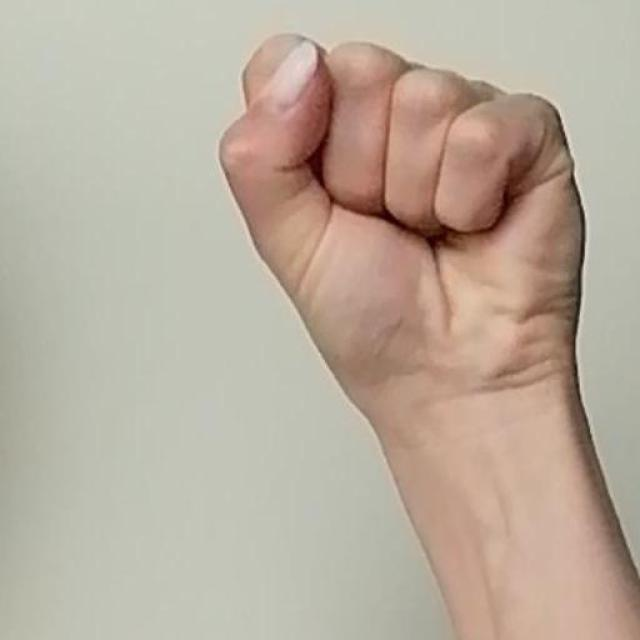hand: (217, 30, 588, 432)
